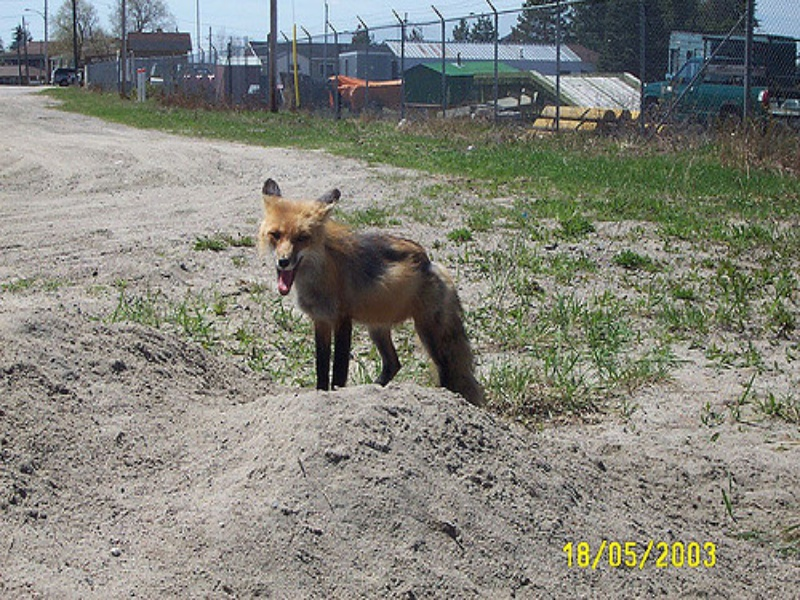fox: (253, 176, 493, 427)
